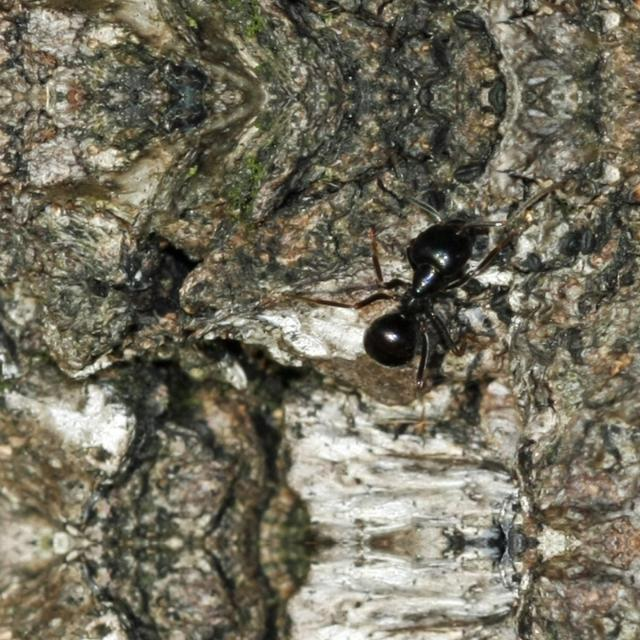Lasius: (346, 202, 492, 376)
